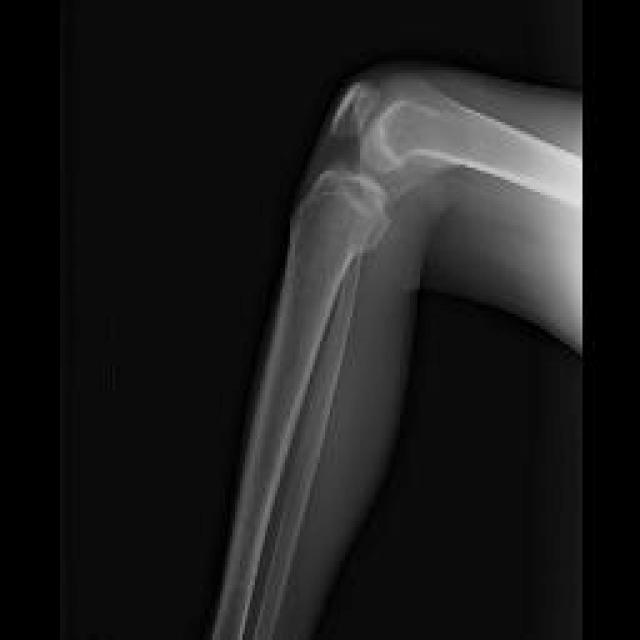normal: (214, 85, 578, 638)
